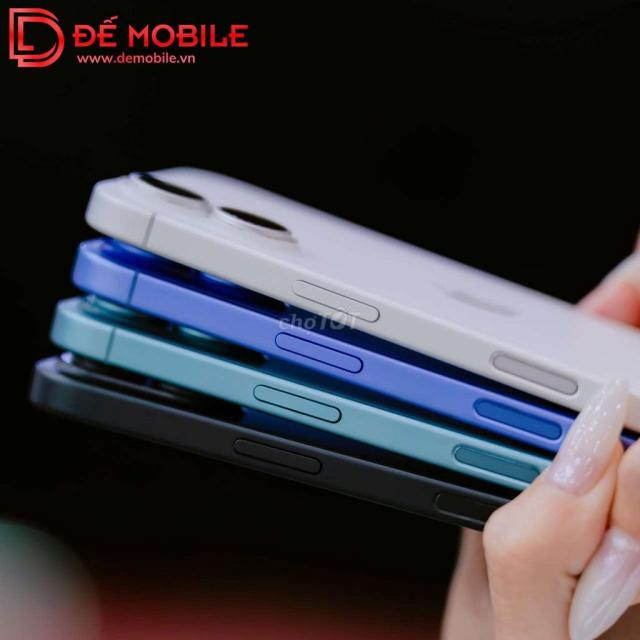gen_16: (86, 167, 639, 411)
